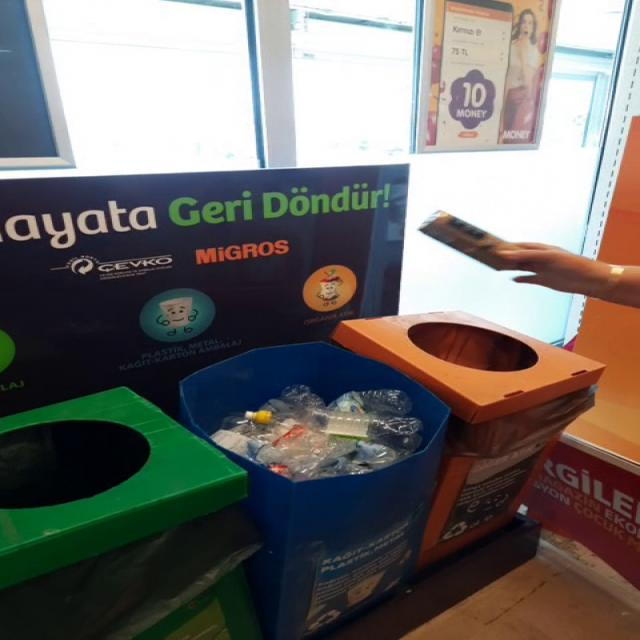Bin: (180, 312, 605, 640), (0, 388, 247, 589)
Metal: (420, 211, 515, 270)
